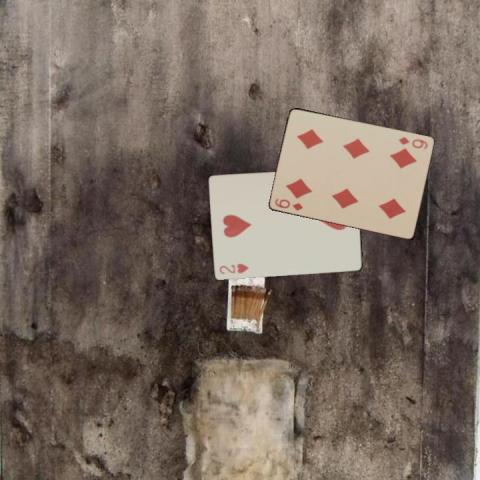2h: (217, 260, 250, 275)
6d: (396, 134, 429, 151), (272, 195, 304, 212)
